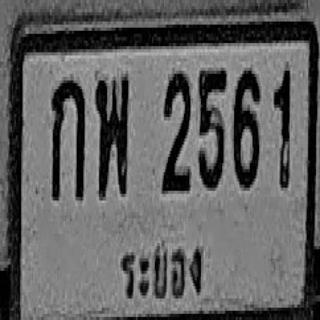A01: (51, 77, 84, 200)
A30: (95, 74, 128, 197)
N01: (273, 66, 290, 189)
N02: (162, 71, 190, 191)
N05: (198, 68, 226, 188)
N06: (233, 68, 260, 188)
P53: (116, 232, 206, 306)
